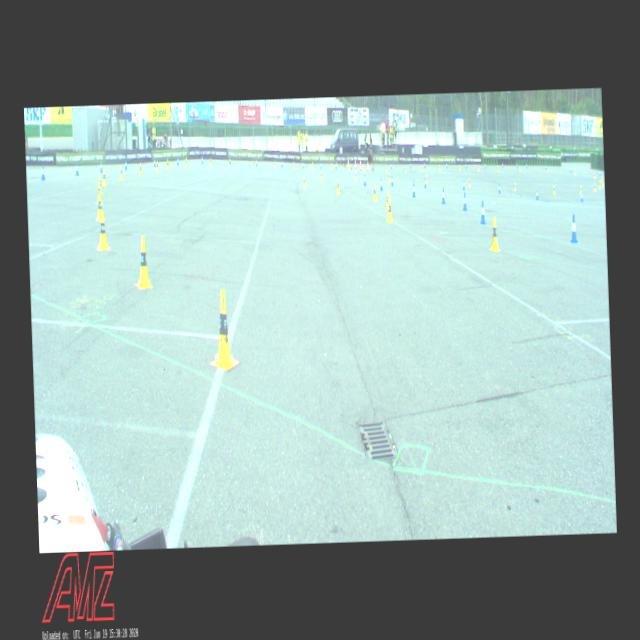blue_cone: (568, 212, 578, 244), (479, 200, 486, 224), (462, 192, 468, 210), (74, 161, 80, 177), (440, 186, 445, 204), (410, 182, 416, 197), (40, 164, 45, 180), (362, 174, 366, 186), (390, 174, 393, 187), (535, 188, 538, 199), (580, 192, 583, 203), (124, 159, 127, 170), (153, 157, 156, 167), (380, 178, 382, 192), (319, 161, 322, 170), (100, 161, 102, 174), (498, 182, 500, 194), (424, 177, 426, 188), (462, 180, 464, 190), (176, 156, 178, 166), (280, 158, 282, 168), (201, 155, 203, 164), (229, 156, 231, 164), (255, 157, 257, 165), (302, 160, 304, 168), (334, 162, 336, 170), (350, 162, 352, 170), (423, 161, 425, 169), (501, 160, 503, 168), (516, 160, 518, 168), (409, 162, 411, 169), (598, 169, 600, 176), (570, 165, 572, 172), (390, 162, 392, 168), (445, 162, 447, 168), (464, 162, 466, 168), (484, 162, 486, 168)
large_orange_cone: (358, 159, 362, 171), (353, 157, 356, 170), (366, 160, 369, 171), (346, 158, 348, 169)
yellow_cone: (209, 288, 235, 368), (134, 236, 152, 290), (95, 210, 108, 250), (489, 216, 499, 252), (95, 192, 102, 220), (386, 198, 392, 222), (96, 180, 102, 204), (101, 168, 107, 186), (118, 164, 123, 180), (386, 190, 390, 210), (98, 174, 102, 194), (372, 182, 376, 200), (336, 178, 340, 194), (138, 162, 142, 176), (302, 174, 306, 188), (552, 183, 555, 194), (166, 158, 169, 169), (513, 180, 516, 190), (354, 170, 357, 180), (185, 156, 188, 166), (209, 156, 212, 166), (593, 182, 596, 192), (387, 172, 390, 181), (156, 159, 158, 172), (320, 170, 322, 181), (252, 158, 254, 168), (292, 160, 294, 170), (362, 162, 364, 172), (598, 178, 600, 188), (579, 184, 581, 193), (228, 158, 230, 167), (602, 177, 604, 186), (425, 174, 427, 182), (274, 160, 276, 168), (311, 161, 313, 169), (330, 162, 332, 170), (348, 162, 350, 170), (404, 164, 406, 172), (421, 164, 423, 172), (438, 163, 440, 171), (477, 164, 479, 172), (600, 174, 602, 182), (468, 178, 470, 185), (385, 165, 387, 172), (458, 163, 460, 170), (496, 164, 498, 171), (518, 164, 520, 171), (574, 168, 576, 175), (592, 172, 594, 178)
